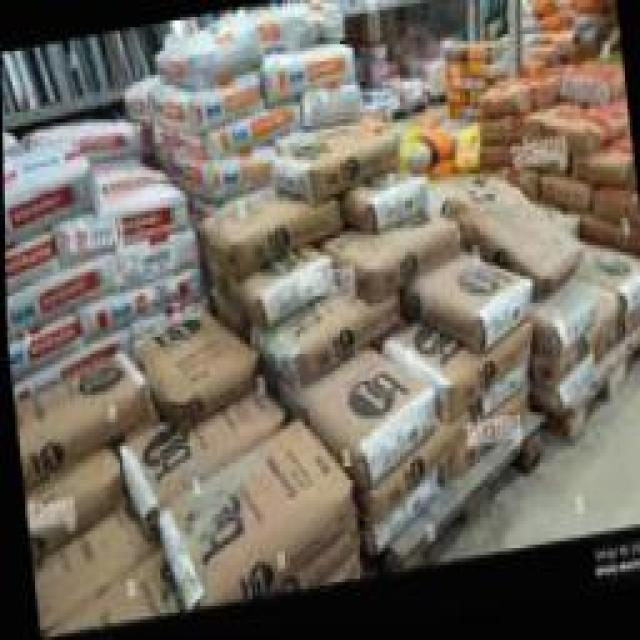gunny_bag: (160, 413, 362, 605), (114, 376, 287, 517), (301, 333, 442, 493), (11, 343, 153, 494), (450, 169, 588, 288), (132, 302, 254, 434), (29, 500, 148, 630), (402, 248, 535, 361), (205, 180, 344, 281), (324, 212, 460, 304), (5, 248, 118, 342), (60, 187, 186, 268), (277, 117, 398, 199), (157, 12, 262, 94), (448, 380, 531, 483), (3, 162, 96, 248), (150, 72, 264, 133), (182, 137, 277, 210), (533, 277, 614, 359), (108, 222, 197, 289), (268, 37, 355, 105), (347, 164, 428, 231), (304, 80, 364, 133), (530, 107, 588, 159), (539, 173, 590, 218), (573, 151, 624, 192), (593, 187, 639, 230), (561, 68, 604, 111), (486, 81, 525, 125), (476, 141, 516, 169), (445, 42, 461, 67)
